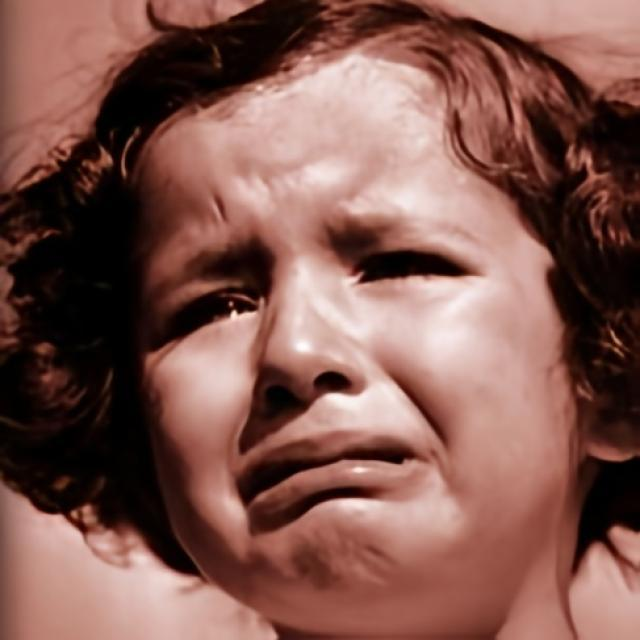sad: (129, 53, 584, 640)
